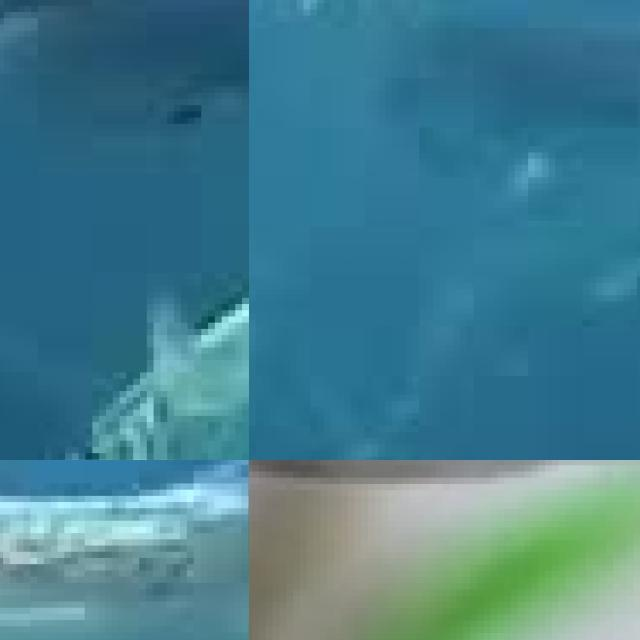fish: (4, 0, 249, 460)
